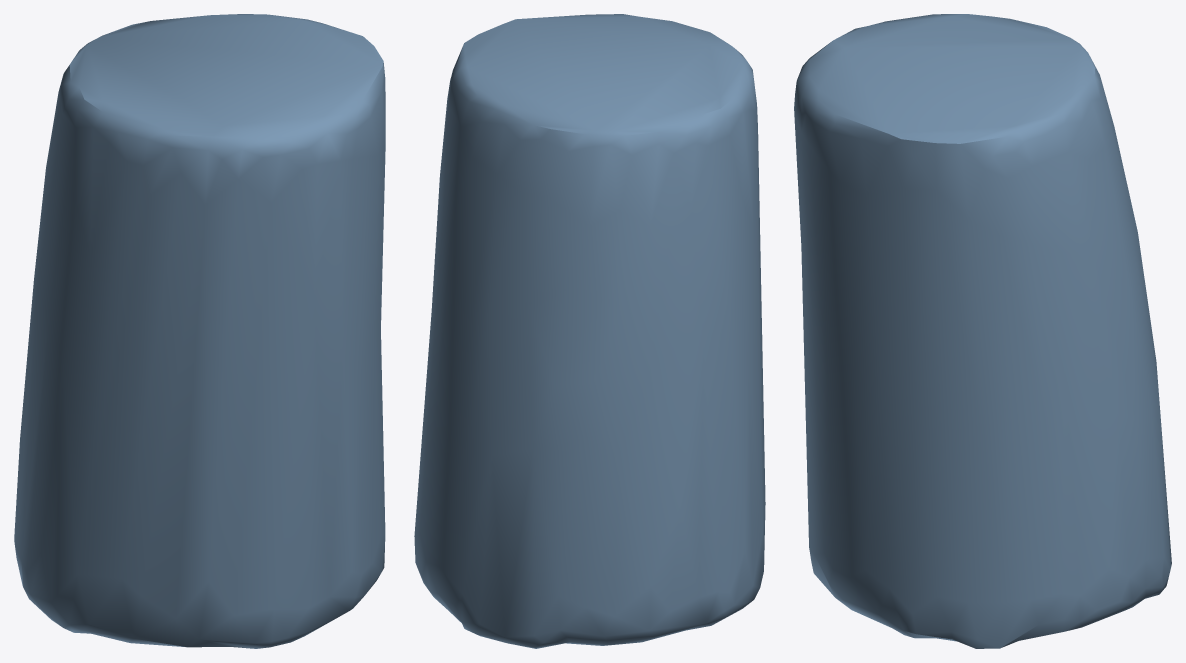
The model's file is superior-vena-cava.glb.
The picture shows the model from 3 angles, left to right: view 1: azimuth 30°, elevation 25°; view 2: azimuth 150°, elevation 25°; view 3: azimuth 270°, elevation 25°; orthographic projection. The views are drawn at different scales.
Parts seen in each view (by area): view 1: FJ3645 Superior vena cava; view 2: FJ3645 Superior vena cava; view 3: FJ3645 Superior vena cava.
Part boxes in pixels (bbox=[...]): FJ3645 Superior vena cava: bbox=[14, 14, 385, 648]; FJ3645 Superior vena cava: bbox=[414, 14, 765, 648]; FJ3645 Superior vena cava: bbox=[794, 14, 1171, 648].
Size of the model in its own units: 0.0225 by 0.035 by 0.0237.
